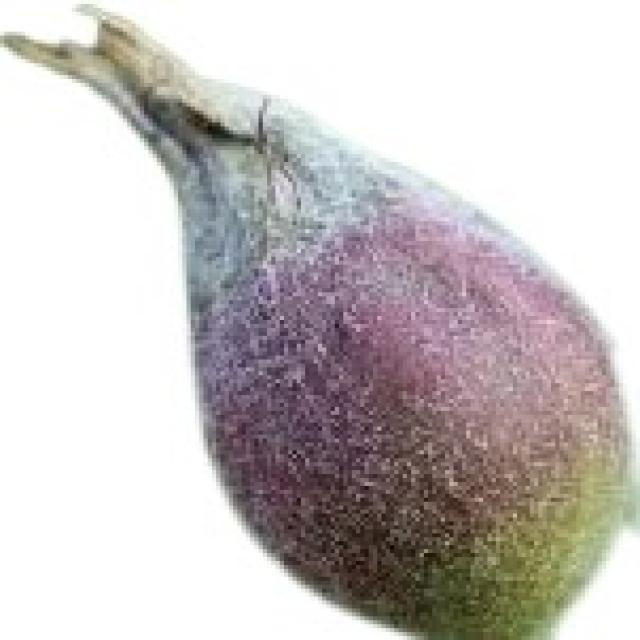20-_ripeness: (7, 12, 631, 640)
